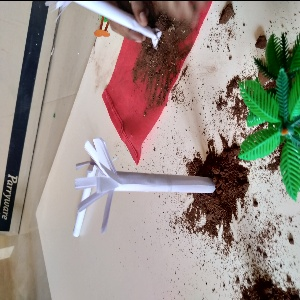plant: (233, 31, 300, 213)
weed: (65, 143, 222, 222), (38, 2, 168, 49)
